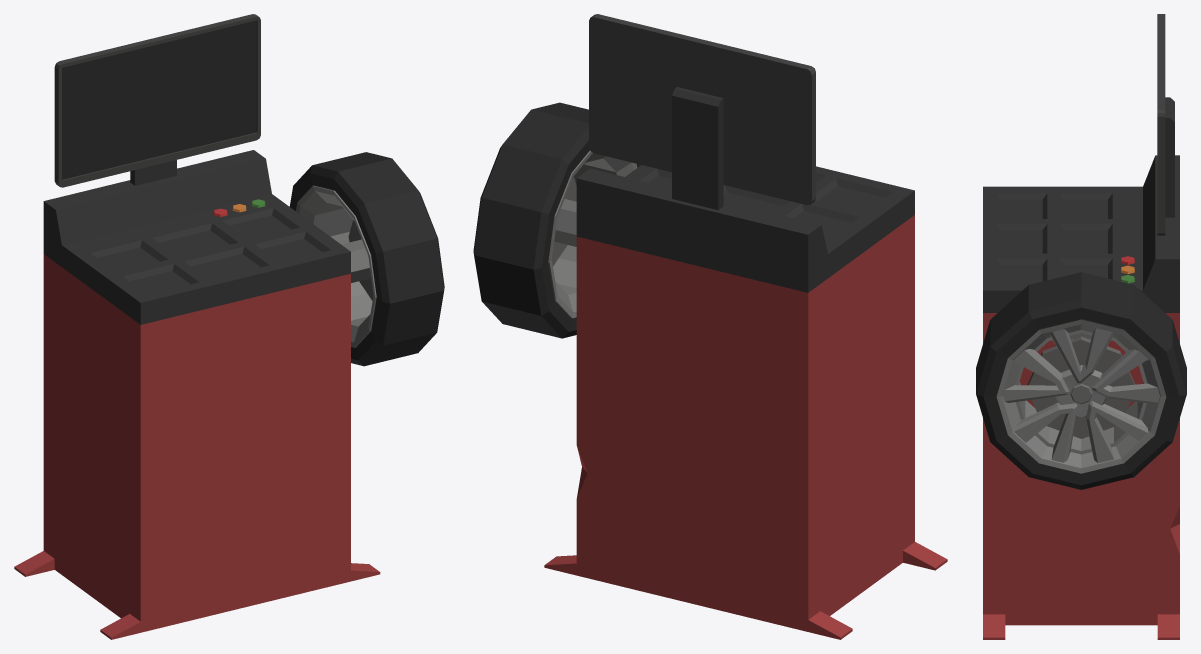
File: SM_Props_Interior_Shop_AutoRepair_WheelBalancer.fbx
3 renders of one model, left to right at view 1: azimuth 30°, elevation 25°; view 2: azimuth 150°, elevation 25°; view 3: azimuth 270°, elevation 25°, orthographic. The views are drawn at different scales.
Visible parts, largest first — view 1: SM_Props_Interior_Shop_AutoRepair_WheelBalancer, SM_Props_Interior_Shop_AutoRepair_WheelBalancer_Wheel; view 2: SM_Props_Interior_Shop_AutoRepair_WheelBalancer, SM_Props_Interior_Shop_AutoRepair_WheelBalancer_Wheel; view 3: SM_Props_Interior_Shop_AutoRepair_WheelBalancer, SM_Props_Interior_Shop_AutoRepair_WheelBalancer_Wheel.
Boxes of the visible parts, x1=… form: SM_Props_Interior_Shop_AutoRepair_WheelBalancer: x1=14, y1=14, x2=380, y2=639; SM_Props_Interior_Shop_AutoRepair_WheelBalancer_Wheel: x1=289, y1=152, x2=444, y2=366; SM_Props_Interior_Shop_AutoRepair_WheelBalancer: x1=544, y1=14, x2=947, y2=639; SM_Props_Interior_Shop_AutoRepair_WheelBalancer_Wheel: x1=473, y1=102, x2=640, y2=338; SM_Props_Interior_Shop_AutoRepair_WheelBalancer: x1=983, y1=14, x2=1179, y2=639; SM_Props_Interior_Shop_AutoRepair_WheelBalancer_Wheel: x1=976, y1=272, x2=1186, y2=489.
Bounding box in the file's own units: 129 × 186 × 69.36.
